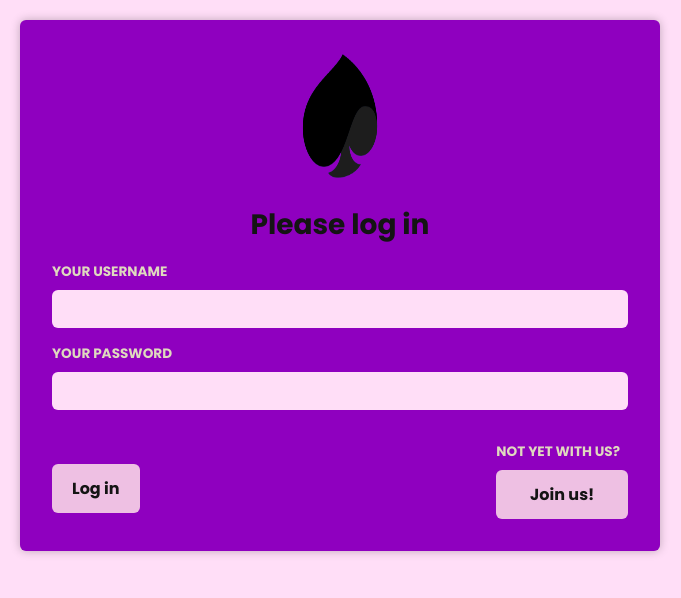
Test: LogIn component › Shows error message when login fails
Type "testuser" into the field labelled "Your username" at coordinates (340, 309), box [52, 290, 628, 328]
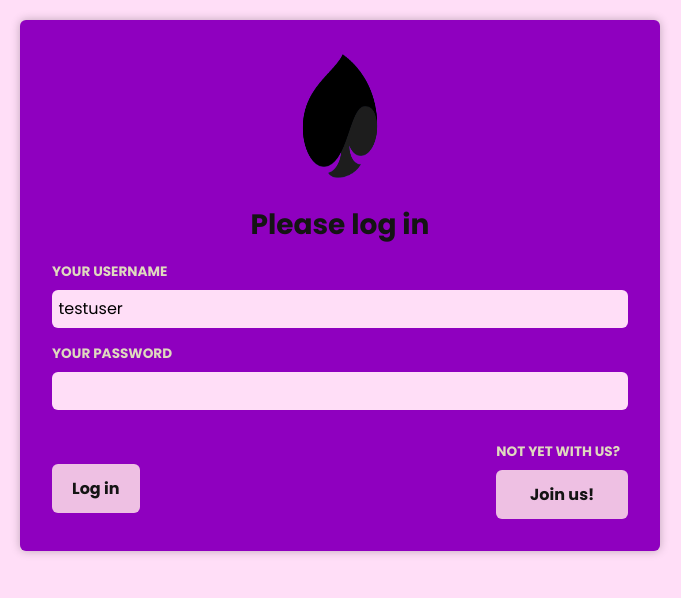
Type "wrongpass" into the password field labelled "Your password" at coordinates (340, 391), box [52, 372, 628, 410]
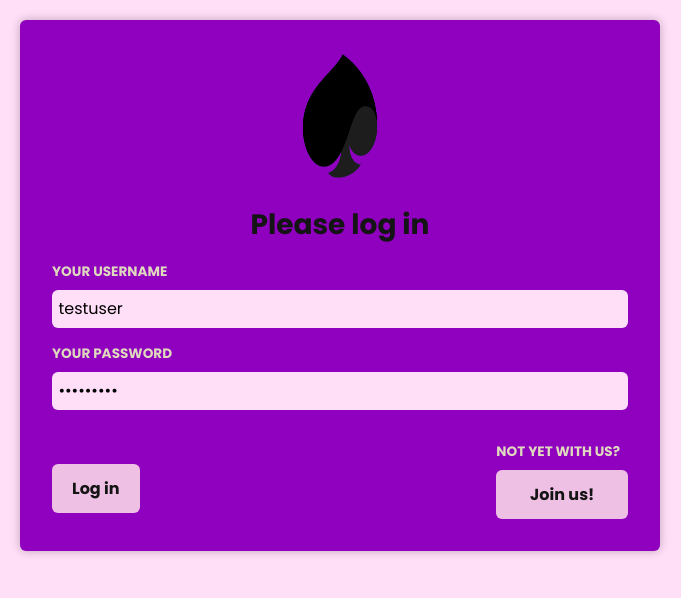
Click the button "Log in" at coordinates (96, 488), box [52, 464, 140, 513]
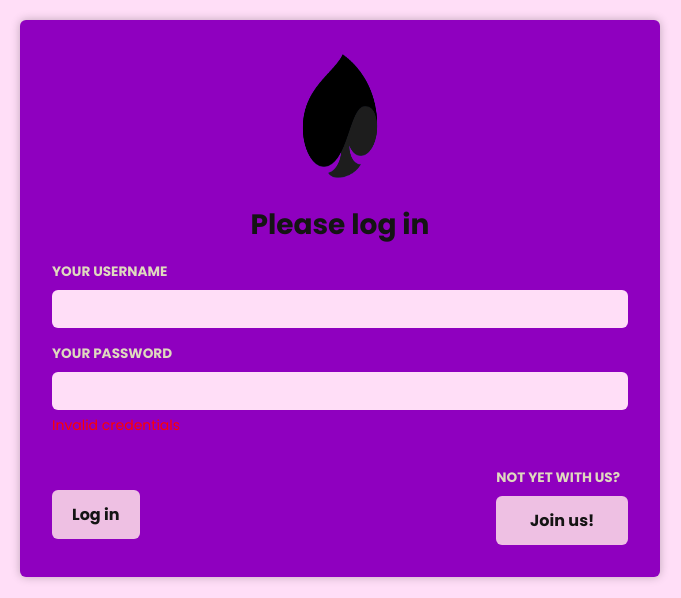
Expected: the text "Invalid credentials" is shown, [52, 415, 180, 435]
